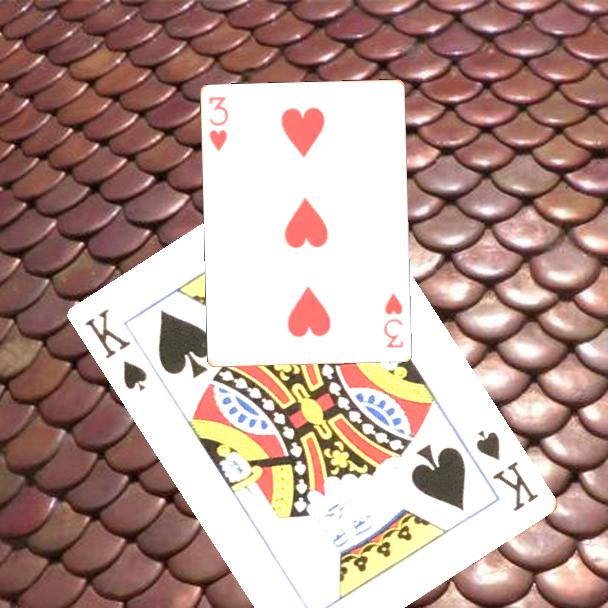h03: (380, 290, 406, 351), (206, 93, 231, 154)
s13: (81, 305, 151, 394), (472, 427, 542, 515)
